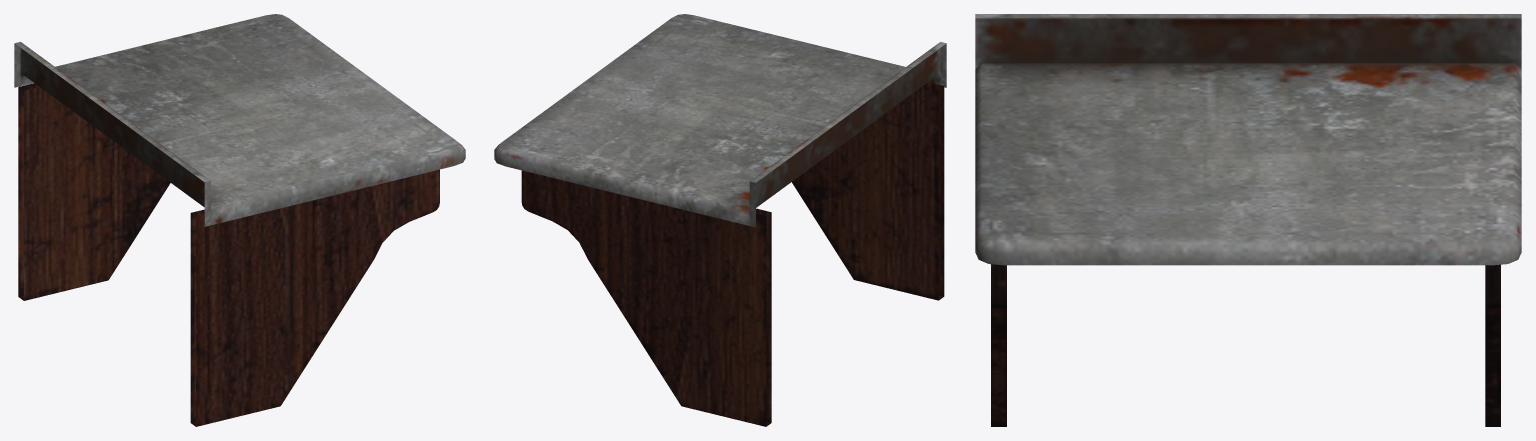
File: MountedTable_02.FBX
3 views of the same model, side by side, from view 1: azimuth 30°, elevation 25°; view 2: azimuth 150°, elevation 25°; view 3: azimuth 270°, elevation 25° (orthographic). The views are drawn at different scales.
Parts seen in each view (by area): view 1: MountedTable_02; view 2: MountedTable_02; view 3: MountedTable_02.
Part boxes in pixels (box(x1,y1,x2,y2)): MountedTable_02: box(14, 14, 465, 426); MountedTable_02: box(494, 14, 946, 426); MountedTable_02: box(975, 14, 1521, 426).
Size of the model in its own units: 78.45 by 68.63 by 95.45.
